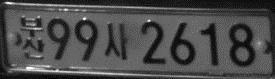1: (198, 23, 224, 66)
2: (140, 20, 167, 65)
6: (169, 21, 195, 65)
8: (227, 21, 256, 66)
9: (45, 17, 71, 59), (74, 18, 98, 62)
부산_V: (20, 15, 45, 61)
사: (103, 22, 129, 61)
